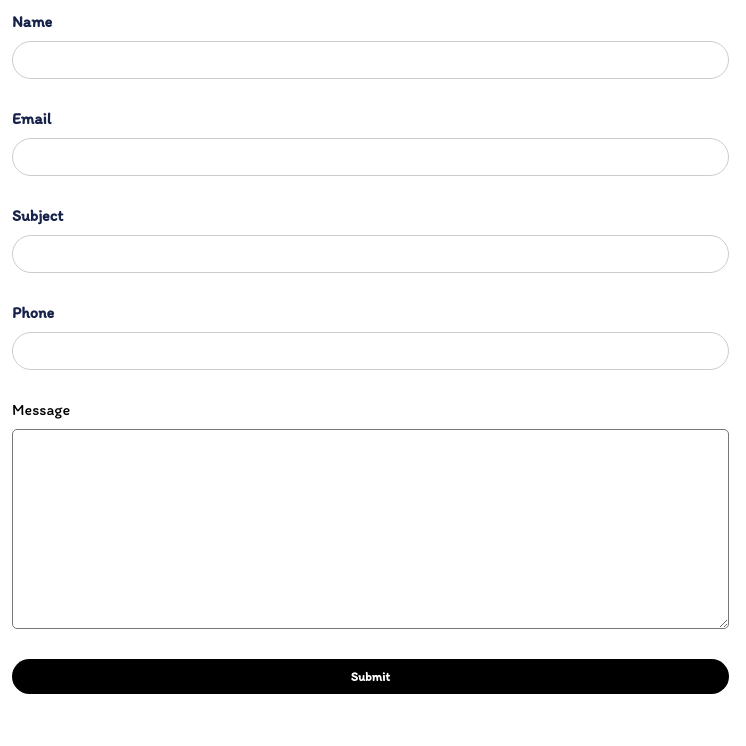
Test: EnquiryForm › displays error message on failed form submission
Type "John Doe" into the field labelled "Name" at x=370, y=60, box top-left (12, 41), bottom-right (729, 79)
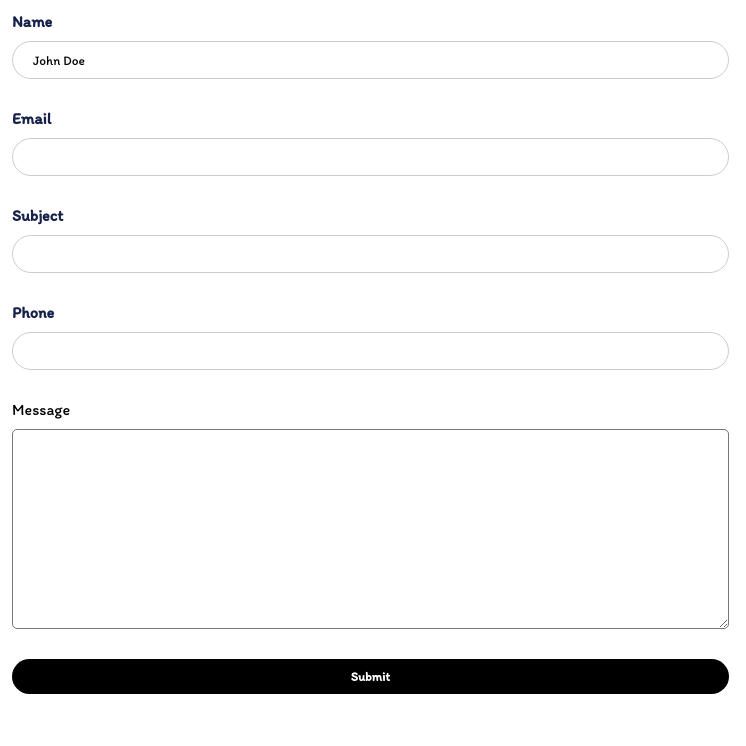
Type "johndoe@example.com" into the field labelled "Email" at x=370, y=157, box top-left (12, 138), bottom-right (729, 176)
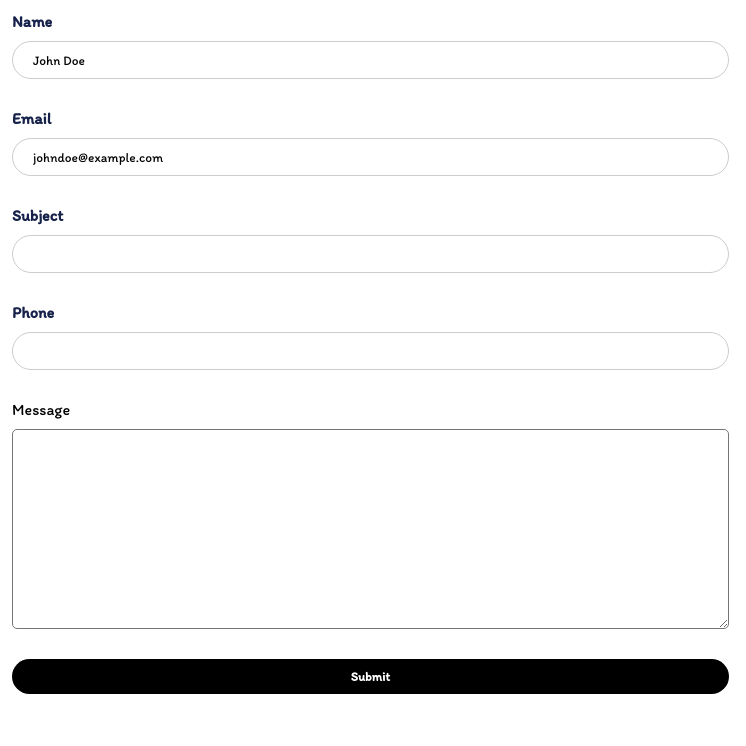
Type "Test Subject" into the field labelled "Subject" at x=370, y=254, box top-left (12, 235), bottom-right (729, 273)
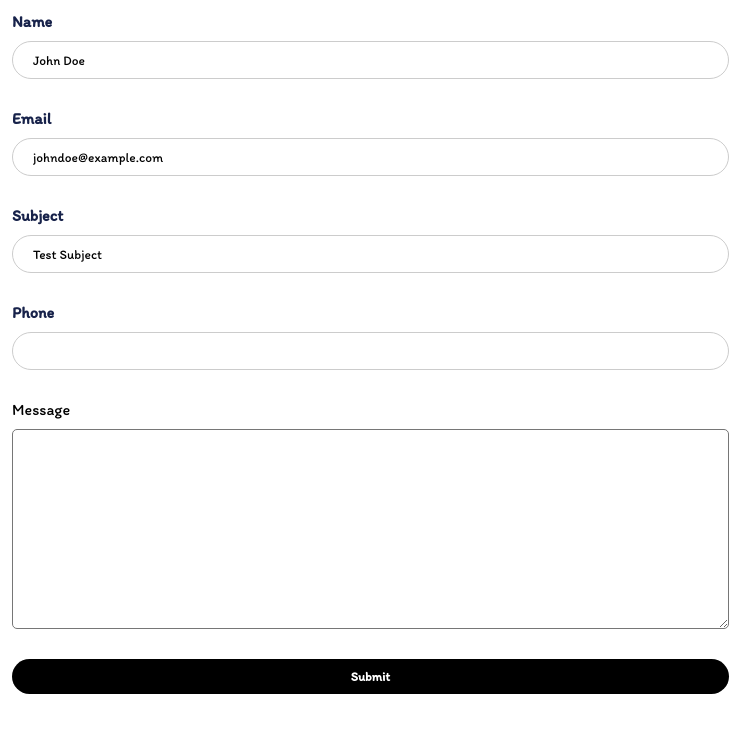
Type "Test Message" into the text box labelled "Message" at x=370, y=529, box top-left (12, 429), bottom-right (729, 629)
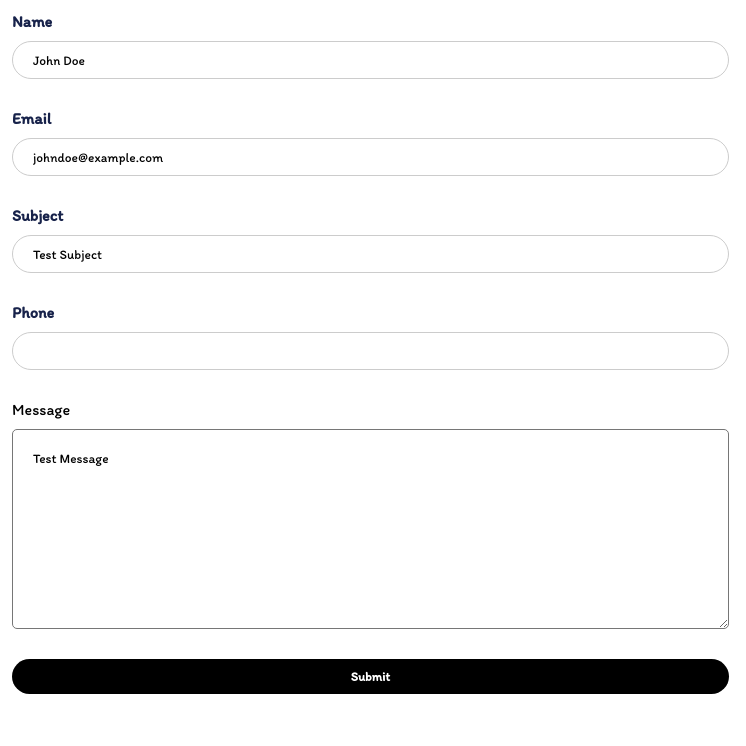
Click the button "Submit" at x=370, y=676, box top-left (12, 659), bottom-right (729, 694)
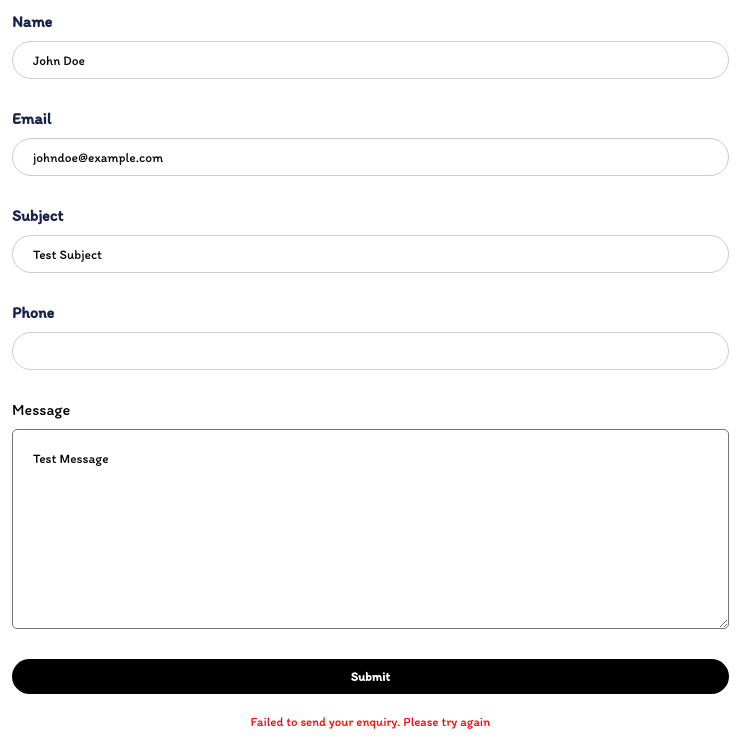
Now the text "Failed to send your enquiry. Please try again" is shown, box top-left (251, 714), bottom-right (490, 729)
